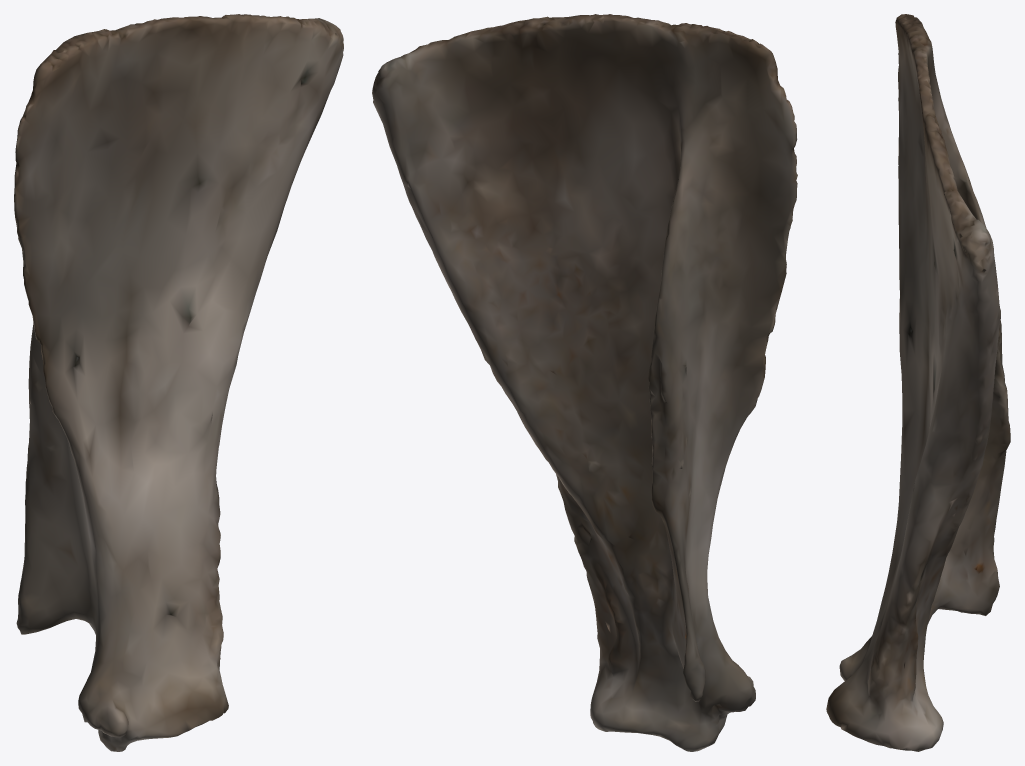
File: CowScapula.fbx
3 views of the same model, side by side, from view 1: azimuth 30°, elevation 25°; view 2: azimuth 150°, elevation 25°; view 3: azimuth 270°, elevation 25° (orthographic). The views are drawn at different scales.
Visible parts, largest first — view 1: CowScapula.001_Baked; view 2: CowScapula.001_Baked; view 3: CowScapula.001_Baked.
Part boxes in pixels (<box>): CowScapula.001_Baked: <box>14,14,343,751</box>; CowScapula.001_Baked: <box>372,14,797,751</box>; CowScapula.001_Baked: <box>826,14,1010,751</box>.
Bounding box in the file's own units: 54.63 × 100 × 24.29.
